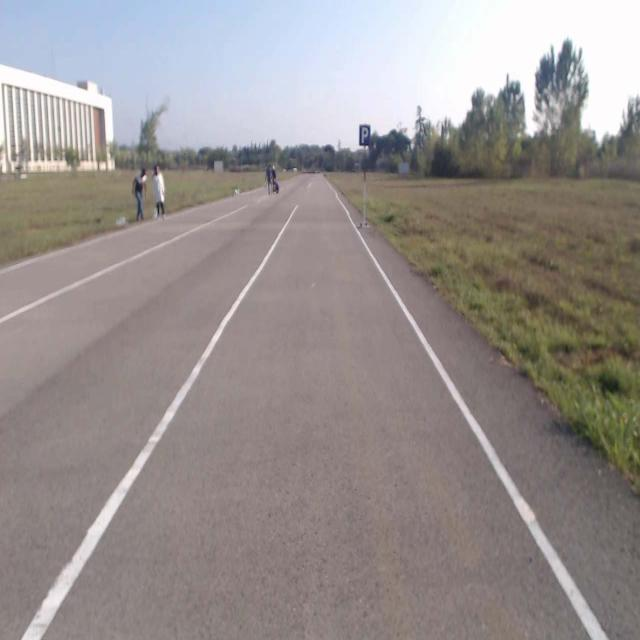park: (360, 124, 370, 148)
